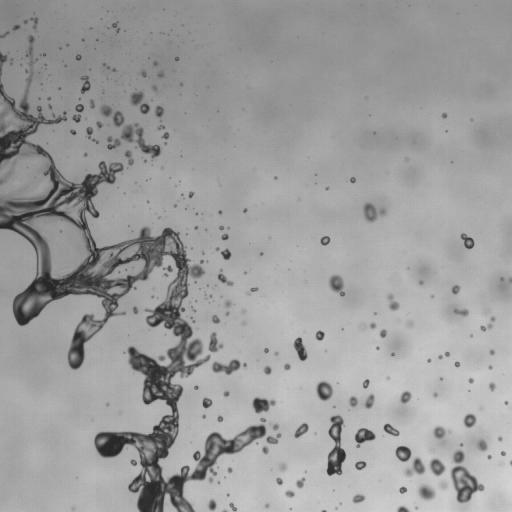droplet: (130, 88, 150, 114), (363, 202, 386, 223), (251, 396, 277, 413), (354, 428, 375, 447), (315, 380, 333, 401), (328, 274, 345, 296), (416, 483, 436, 501), (208, 332, 223, 354), (432, 425, 451, 439), (460, 232, 474, 249), (387, 292, 399, 311), (294, 422, 308, 438), (214, 247, 231, 260), (462, 413, 476, 428), (383, 423, 399, 436), (265, 432, 281, 445), (362, 393, 374, 409), (154, 105, 164, 122), (399, 390, 411, 404), (476, 438, 487, 451), (437, 479, 448, 490), (21, 23, 32, 34), (146, 65, 157, 76), (146, 72, 157, 83), (79, 92, 90, 103), (136, 113, 147, 124), (75, 121, 86, 132), (111, 126, 122, 137), (143, 134, 154, 145), (119, 139, 130, 150), (126, 140, 137, 151), (131, 147, 142, 158), (113, 151, 124, 162), (103, 152, 114, 163), (72, 173, 83, 184), (96, 181, 107, 192), (0, 187, 11, 198), (149, 226, 160, 237), (162, 254, 173, 265), (150, 266, 161, 277), (204, 270, 215, 281), (155, 293, 166, 304), (90, 294, 101, 305), (451, 294, 462, 305), (93, 308, 104, 319), (178, 310, 189, 321), (169, 334, 180, 345), (62, 336, 73, 347), (147, 348, 158, 359), (210, 351, 221, 362), (263, 354, 274, 365), (271, 361, 282, 372), (134, 371, 145, 382), (170, 374, 181, 385), (356, 390, 367, 401), (210, 392, 221, 403), (154, 398, 165, 409), (336, 406, 347, 417), (249, 414, 260, 425), (110, 422, 121, 433), (372, 425, 383, 436), (222, 429, 233, 440), (340, 430, 351, 441), (487, 442, 498, 453), (122, 443, 133, 454), (218, 452, 229, 463), (443, 458, 454, 469), (187, 459, 198, 470), (160, 469, 171, 480), (440, 470, 451, 481), (413, 473, 424, 484), (182, 479, 193, 490), (407, 485, 418, 496), (397, 495, 408, 506), (348, 395, 358, 407), (202, 397, 212, 409), (207, 499, 217, 511), (352, 494, 365, 503), (295, 477, 305, 488), (354, 461, 366, 470), (315, 329, 324, 340), (284, 489, 295, 498), (320, 236, 330, 245), (451, 284, 460, 294), (224, 299, 234, 308), (262, 365, 271, 375), (269, 422, 279, 431), (278, 462, 287, 472), (482, 307, 491, 316), (211, 314, 220, 323), (398, 486, 407, 495), (154, 77, 163, 86), (66, 107, 75, 116), (43, 110, 52, 119), (66, 119, 75, 128), (216, 215, 225, 224), (219, 240, 228, 249), (185, 274, 194, 283), (197, 275, 206, 284), (321, 280, 330, 289), (209, 322, 218, 331), (200, 338, 209, 347), (136, 344, 145, 353), (200, 346, 209, 355), (486, 355, 495, 364), (220, 356, 229, 365), (202, 361, 211, 370), (356, 395, 365, 404), (162, 405, 171, 414), (143, 425, 152, 434), (264, 426, 273, 435), (257, 436, 266, 445), (326, 439, 335, 448), (491, 451, 500, 460), (105, 455, 114, 464), (421, 458, 430, 467), (133, 464, 142, 473), (423, 466, 432, 475), (433, 487, 442, 496), (471, 490, 480, 499), (151, 84, 159, 94), (379, 329, 387, 338), (488, 382, 496, 391), (96, 121, 103, 131), (163, 505, 174, 511), (138, 69, 146, 77), (406, 319, 413, 328), (362, 379, 369, 388), (262, 445, 269, 454), (157, 70, 164, 78), (161, 132, 169, 139), (204, 292, 212, 299), (276, 477, 283, 485), (89, 99, 95, 108), (188, 191, 195, 198), (221, 233, 228, 240), (31, 50, 38, 57), (38, 56, 45, 63), (1, 61, 8, 68), (32, 63, 39, 70), (153, 65, 160, 72), (31, 74, 38, 81), (30, 79, 37, 86), (76, 80, 83, 87), (3, 87, 10, 94), (127, 87, 134, 94), (124, 94, 131, 101), (104, 99, 111, 106), (82, 100, 89, 107), (94, 101, 101, 108), (13, 102, 20, 109), (110, 105, 117, 112), (148, 106, 155, 113), (54, 109, 61, 116), (65, 112, 72, 119), (106, 115, 113, 122), (123, 118, 130, 125), (70, 121, 77, 128), (37, 123, 44, 130), (90, 123, 97, 130), (25, 134, 32, 141), (159, 146, 166, 153), (144, 152, 151, 159), (120, 157, 127, 164), (54, 162, 61, 169), (93, 167, 100, 174), (90, 195, 97, 202), (177, 201, 184, 208), (373, 203, 380, 210), (357, 208, 364, 215), (83, 211, 90, 218), (375, 214, 382, 221), (371, 219, 378, 226), (2, 227, 9, 234), (133, 230, 140, 237), (186, 260, 193, 267), (200, 262, 207, 269), (171, 265, 178, 272), (331, 268, 338, 275), (24, 278, 31, 285), (133, 279, 140, 286), (332, 290, 339, 297), (65, 293, 72, 300), (116, 297, 123, 304), (181, 297, 188, 304), (218, 297, 225, 304), (383, 299, 390, 306), (149, 302, 156, 309), (137, 305, 144, 312), (125, 307, 132, 314), (392, 308, 399, 315), (38, 309, 45, 316), (217, 312, 224, 319), (369, 315, 376, 322), (9, 316, 16, 323), (29, 317, 36, 324), (102, 322, 109, 329), (373, 327, 380, 334), (67, 330, 74, 337), (215, 336, 222, 343), (288, 336, 295, 343), (301, 339, 308, 346), (82, 341, 89, 348), (145, 350, 152, 357), (291, 350, 298, 357), (123, 352, 130, 359), (195, 353, 202, 360), (430, 354, 437, 361), (81, 358, 88, 365), (124, 362, 131, 369), (258, 362, 265, 369), (192, 366, 199, 373), (218, 369, 225, 376), (231, 369, 238, 376), (316, 375, 323, 382), (322, 375, 329, 382), (327, 378, 334, 385), (311, 391, 318, 398), (394, 391, 401, 398), (257, 392, 264, 399), (325, 397, 332, 404), (407, 397, 414, 404), (246, 399, 253, 406), (175, 400, 182, 407), (343, 400, 350, 407), (371, 400, 378, 407), (247, 404, 254, 411), (199, 406, 206, 413), (258, 410, 265, 417), (177, 417, 184, 424), (253, 419, 260, 426), (441, 422, 448, 429), (240, 423, 247, 430), (203, 429, 210, 436), (427, 430, 434, 437), (442, 433, 449, 440), (362, 439, 369, 446), (266, 442, 273, 449), (339, 442, 346, 449), (460, 445, 467, 452), (167, 446, 174, 453), (91, 448, 98, 455), (198, 449, 205, 456), (481, 449, 488, 456), (462, 450, 469, 457), (433, 452, 440, 459), (503, 454, 510, 461), (157, 457, 164, 464), (406, 458, 413, 465), (459, 460, 466, 467), (340, 461, 347, 468), (174, 468, 181, 475), (468, 468, 475, 475), (277, 471, 284, 478), (476, 477, 483, 484), (446, 478, 453, 485), (290, 484, 297, 491), (450, 489, 457, 496), (133, 491, 140, 498), (163, 493, 170, 500), (285, 496, 292, 503), (202, 499, 209, 506), (462, 500, 469, 507), (12, 24, 20, 30), (157, 124, 165, 130), (132, 306, 138, 314), (506, 450, 511, 459), (284, 363, 290, 370), (217, 415, 223, 422), (391, 505, 398, 511), (75, 54, 81, 60), (441, 112, 447, 118), (70, 129, 76, 135), (349, 177, 355, 183), (240, 308, 246, 314), (241, 320, 247, 326), (489, 349, 495, 355), (444, 351, 450, 357), (454, 361, 460, 367), (468, 377, 474, 383), (223, 390, 229, 396), (142, 157, 147, 164), (184, 205, 190, 210), (218, 225, 224, 230), (432, 392, 438, 397), (500, 451, 506, 456), (227, 467, 232, 473), (204, 507, 211, 511), (212, 507, 219, 511), (264, 507, 271, 511), (326, 507, 333, 511), (174, 56, 179, 61), (153, 61, 158, 66), (83, 152, 88, 157), (59, 229, 64, 234), (418, 280, 423, 285), (264, 348, 269, 353), (274, 351, 279, 356), (390, 352, 395, 357), (438, 354, 443, 359), (497, 436, 502, 441), (487, 454, 492, 459), (264, 503, 269, 508), (24, 14, 29, 19), (12, 20, 17, 25), (28, 20, 33, 25), (36, 21, 41, 26), (19, 22, 24, 27), (15, 28, 20, 33), (32, 33, 37, 38), (24, 40, 29, 45), (31, 41, 36, 46), (60, 42, 65, 47), (6, 54, 11, 59), (24, 56, 29, 61), (148, 58, 153, 63), (24, 64, 29, 69), (136, 66, 141, 71), (84, 70, 89, 75), (145, 70, 150, 75), (80, 71, 85, 76), (163, 71, 168, 76), (24, 72, 29, 77), (137, 74, 142, 79), (87, 77, 92, 82), (21, 81, 26, 86), (156, 84, 161, 89), (48, 99, 53, 104), (36, 100, 41, 105), (161, 104, 166, 109), (441, 107, 446, 112), (73, 110, 78, 115), (121, 111, 126, 116), (139, 112, 144, 117), (160, 113, 165, 118), (154, 115, 159, 120), (79, 116, 84, 121), (161, 120, 166, 125), (51, 122, 56, 127), (138, 122, 143, 127), (47, 123, 52, 128), (159, 129, 164, 134), (82, 130, 87, 135), (90, 132, 95, 137), (168, 132, 173, 137), (160, 137, 165, 142), (41, 144, 46, 149), (48, 150, 53, 155), (155, 154, 160, 159), (132, 160, 137, 165), (104, 161, 109, 166), (121, 168, 126, 173), (114, 171, 119, 176), (183, 192, 188, 197), (94, 205, 99, 210), (385, 208, 390, 213), (375, 212, 380, 217), (162, 223, 167, 228), (172, 227, 177, 232), (220, 229, 225, 234), (466, 232, 471, 237), (178, 233, 183, 238), (19, 235, 24, 240), (92, 235, 97, 240), (472, 237, 477, 242), (459, 238, 464, 243), (24, 239, 29, 244), (113, 239, 118, 244), (105, 241, 110, 246), (95, 243, 100, 248), (219, 246, 224, 251), (228, 247, 233, 252), (185, 253, 190, 258), (199, 254, 204, 259), (218, 254, 223, 259), (228, 255, 233, 260), (222, 258, 227, 263), (214, 269, 219, 274), (221, 270, 226, 275), (147, 272, 152, 277), (225, 275, 230, 280), (419, 275, 424, 280), (503, 277, 508, 282), (216, 279, 221, 284), (422, 280, 427, 285), (455, 280, 460, 285), (131, 281, 136, 286), (449, 281, 454, 286), (232, 282, 237, 287), (186, 285, 191, 290), (245, 285, 250, 290), (128, 287, 133, 292), (148, 289, 153, 294), (447, 289, 452, 294), (457, 289, 462, 294), (392, 296, 397, 301), (230, 298, 235, 303), (192, 303, 197, 308), (457, 305, 462, 310), (226, 306, 231, 311), (448, 307, 453, 312), (86, 309, 91, 314), (146, 310, 151, 315), (467, 311, 472, 316), (490, 311, 495, 316), (456, 313, 461, 318), (77, 315, 82, 320), (107, 316, 112, 321), (494, 316, 499, 321), (365, 320, 370, 325), (187, 321, 192, 326), (491, 321, 496, 326), (144, 323, 149, 328), (367, 327, 372, 332), (98, 328, 103, 333), (384, 333, 389, 338), (322, 335, 327, 340), (313, 338, 318, 343), (488, 344, 493, 349), (123, 346, 128, 351), (493, 347, 498, 352), (484, 350, 489, 355), (493, 351, 498, 356), (489, 354, 494, 359), (304, 357, 309, 362), (238, 359, 243, 364), (64, 362, 69, 367), (279, 363, 284, 368), (289, 364, 294, 369), (66, 365, 71, 370), (270, 368, 275, 373), (284, 369, 289, 374), (175, 371, 180, 376), (260, 371, 265, 376), (188, 373, 193, 378), (266, 373, 271, 378), (471, 374, 476, 379), (489, 377, 494, 382), (463, 378, 468, 383), (367, 382, 372, 387), (467, 382, 472, 387), (494, 382, 499, 387), (330, 383, 335, 388), (222, 386, 227, 391), (400, 387, 405, 392), (433, 387, 438, 392), (485, 387, 490, 392), (205, 393, 210, 398), (428, 394, 433, 399), (266, 396, 271, 401), (139, 400, 144, 405), (405, 400, 410, 405), (274, 401, 279, 406), (207, 405, 212, 410), (468, 409, 473, 414), (331, 411, 336, 416), (460, 413, 465, 418), (212, 415, 217, 420), (153, 420, 158, 425), (327, 420, 332, 425), (459, 421, 464, 426), (295, 422, 300, 427), (177, 424, 182, 429), (307, 425, 312, 430), (366, 425, 371, 430), (469, 425, 474, 430), (131, 427, 136, 432), (352, 428, 357, 433), (290, 429, 295, 434), (323, 429, 328, 434), (92, 430, 97, 435), (339, 432, 344, 437), (385, 432, 390, 437), (493, 433, 498, 438), (298, 434, 303, 439), (350, 434, 355, 439), (277, 437, 282, 442), (173, 438, 178, 443), (89, 439, 94, 444), (250, 440, 255, 445), (401, 441, 406, 446), (243, 445, 248, 450), (391, 445, 396, 450), (456, 445, 461, 450), (190, 448, 195, 453), (390, 449, 395, 454), (344, 450, 349, 455), (359, 456, 364, 461), (393, 456, 398, 461), (135, 457, 140, 462), (504, 460, 509, 465), (180, 461, 185, 466), (451, 462, 456, 467), (286, 463, 291, 468), (211, 464, 216, 469), (322, 464, 327, 469), (223, 470, 228, 475), (332, 472, 337, 477), (303, 473, 308, 478), (212, 475, 217, 480), (280, 475, 285, 480), (296, 475, 301, 480), (272, 480, 277, 485), (302, 480, 307, 485), (358, 490, 363, 495), (350, 491, 355, 496), (348, 494, 353, 499), (227, 497, 232, 502), (260, 500, 265, 505), (358, 500, 363, 505), (403, 503, 408, 508), (191, 504, 196, 509), (337, 505, 342, 510), (488, 364, 492, 370), (498, 461, 504, 465), (0, 27, 3, 34), (0, 130, 3, 137), (48, 104, 52, 109), (404, 157, 409, 161), (243, 208, 247, 213), (218, 210, 222, 215), (500, 276, 504, 281), (225, 311, 229, 316), (504, 400, 508, 405), (478, 406, 483, 410), (508, 277, 511, 283), (179, 82, 183, 86), (47, 96, 51, 100), (325, 186, 329, 190), (157, 215, 161, 219), (194, 225, 198, 229), (430, 294, 434, 298), (469, 333, 473, 337), (375, 346, 379, 350), (427, 358, 431, 362), (386, 376, 390, 380), (439, 377, 443, 381), (194, 385, 198, 389), (105, 402, 109, 406), (202, 414, 206, 418), (201, 250, 204, 255), (508, 282, 511, 287), (508, 400, 511, 405), (227, 508, 232, 511), (58, 86, 61, 90), (163, 142, 167, 145), (160, 166, 164, 169), (273, 176, 277, 179), (173, 204, 177, 207), (185, 231, 188, 235), (259, 252, 263, 255), (243, 271, 247, 274), (151, 287, 155, 290), (373, 312, 377, 315), (217, 480, 220, 484), (226, 493, 229, 497), (334, 506, 337, 510), (414, 506, 418, 509), (0, 37, 2, 42), (107, 26, 110, 29), (81, 38, 84, 41), (96, 38, 99, 41), (66, 43, 69, 46), (44, 63, 47, 66), (64, 64, 67, 67), (38, 97, 41, 100), (78, 97, 81, 100), (470, 118, 473, 121), (134, 181, 137, 184), (174, 184, 177, 187), (146, 200, 149, 203), (195, 212, 198, 215), (201, 212, 204, 215), (227, 226, 230, 229), (204, 228, 207, 231), (206, 284, 209, 287), (164, 332, 167, 335), (332, 405, 335, 408), (304, 470, 307, 473), (339, 502, 342, 505), (289, 507, 292, 510), (32, 14, 35, 17), (37, 19, 40, 22), (112, 19, 115, 22), (108, 23, 111, 26), (10, 24, 13, 27), (103, 26, 106, 29), (118, 29, 121, 32), (5, 34, 8, 37), (95, 35, 98, 38), (83, 36, 86, 39), (98, 37, 101, 40), (92, 38, 95, 41), (80, 40, 83, 43), (67, 45, 70, 48), (40, 50, 43, 53), (23, 51, 26, 54), (77, 51, 80, 54), (45, 52, 48, 55), (174, 53, 177, 56), (40, 55, 43, 58), (72, 55, 75, 58), (178, 56, 181, 59), (171, 57, 174, 60), (79, 58, 82, 61), (75, 59, 78, 62), (102, 59, 105, 62), (11, 60, 14, 63), (175, 60, 178, 63), (62, 61, 65, 64), (105, 62, 108, 65), (99, 63, 102, 66), (46, 64, 49, 67), (42, 65, 45, 68), (109, 66, 112, 69), (115, 66, 118, 69), (21, 69, 24, 72), (112, 71, 115, 74), (0, 74, 3, 77), (144, 76, 147, 79), (160, 76, 163, 79), (81, 79, 84, 82), (176, 81, 179, 84), (182, 81, 185, 84), (56, 84, 59, 87), (89, 86, 92, 89), (28, 87, 31, 90), (60, 87, 63, 90), (57, 89, 60, 92), (84, 90, 87, 93), (45, 94, 48, 97), (50, 96, 53, 99), (77, 100, 80, 103), (158, 103, 161, 106), (51, 105, 54, 108), (82, 108, 85, 111), (438, 112, 441, 115), (446, 114, 449, 117), (439, 116, 442, 119), (443, 117, 446, 120), (60, 119, 63, 122), (71, 119, 74, 122), (100, 126, 103, 129), (444, 126, 447, 129), (441, 129, 444, 132), (447, 129, 450, 132), (375, 131, 378, 134), (68, 132, 71, 135), (74, 133, 77, 136), (94, 137, 97, 140), (88, 138, 91, 141), (92, 141, 95, 144), (105, 141, 108, 144), (95, 143, 98, 146), (85, 149, 88, 152), (81, 150, 84, 153), (179, 151, 182, 154), (86, 154, 89, 157), (96, 160, 99, 163), (127, 164, 130, 167), (273, 172, 276, 175), (350, 173, 353, 176), (276, 174, 279, 177), (270, 175, 273, 178), (314, 175, 317, 178), (146, 176, 149, 179), (347, 176, 350, 179), (142, 177, 145, 180), (275, 178, 278, 181), (147, 179, 150, 182), (347, 180, 350, 183), (175, 181, 178, 184), (350, 182, 353, 185), (135, 183, 138, 186), (324, 183, 327, 186), (191, 188, 194, 191), (327, 188, 330, 191), (177, 192, 180, 195), (191, 195, 194, 198), (147, 197, 150, 200), (143, 199, 146, 202), (175, 201, 178, 204), (147, 202, 150, 205), (183, 204, 186, 207), (175, 205, 178, 208), (181, 207, 184, 210), (186, 207, 189, 210), (240, 207, 243, 210), (215, 208, 218, 211), (193, 209, 196, 212), (221, 210, 224, 213), (245, 210, 248, 213), (197, 211, 200, 214), (98, 212, 101, 215), (216, 212, 219, 215), (156, 213, 159, 216), (160, 214, 163, 217), (219, 222, 222, 225), (124, 224, 127, 227), (191, 225, 194, 228), (195, 228, 198, 231), (321, 233, 324, 236), (227, 234, 230, 237), (328, 234, 331, 237), (457, 234, 460, 237), (218, 236, 221, 239), (223, 239, 226, 242), (317, 239, 320, 242), (318, 242, 321, 245), (327, 242, 330, 245), (473, 242, 476, 245), (213, 244, 216, 247), (321, 244, 324, 247), (464, 247, 467, 250), (469, 247, 472, 250), (203, 249, 206, 252), (261, 249, 264, 252), (256, 251, 259, 254), (261, 254, 264, 257), (33, 255, 36, 258), (33, 258, 36, 261), (245, 268, 248, 271), (240, 270, 243, 273), (246, 271, 249, 274), (162, 275, 165, 278), (496, 277, 499, 280), (415, 280, 418, 283), (416, 283, 419, 286), (208, 284, 211, 287), (251, 284, 254, 287), (200, 288, 203, 291), (250, 291, 253, 294), (206, 292, 209, 295), (211, 294, 214, 297), (341, 295, 344, 298), (433, 295, 436, 298), (208, 297, 211, 300), (373, 308, 376, 311), (212, 311, 215, 314), (228, 312, 231, 315), (370, 312, 373, 315), (133, 313, 136, 316), (192, 316, 195, 319), (477, 326, 480, 329), (337, 327, 340, 330), (343, 327, 346, 330), (315, 328, 318, 331), (320, 328, 323, 331), (479, 329, 482, 332), (468, 336, 471, 339), (318, 339, 321, 342), (373, 344, 376, 347), (222, 345, 225, 348), (378, 345, 381, 348), (261, 347, 264, 350), (276, 348, 279, 351), (446, 348, 449, 351), (375, 349, 378, 352), (390, 349, 393, 352), (267, 350, 270, 353), (394, 352, 397, 355), (277, 353, 280, 356), (442, 354, 445, 357), (274, 355, 277, 358), (390, 355, 393, 358), (425, 356, 428, 359), (456, 358, 459, 361), (451, 361, 454, 364), (246, 362, 249, 365), (427, 362, 430, 365), (459, 362, 462, 365), (490, 362, 493, 365), (485, 365, 488, 368), (491, 367, 494, 370), (440, 374, 443, 377), (436, 376, 439, 379), (362, 377, 365, 380), (442, 378, 445, 381), (438, 379, 441, 382), (368, 380, 371, 383), (472, 380, 475, 383), (193, 382, 196, 385), (359, 383, 362, 386), (197, 386, 200, 389), (493, 388, 496, 391), (194, 389, 197, 392), (467, 391, 470, 394), (220, 392, 223, 395), (228, 392, 231, 395), (225, 395, 228, 398), (435, 396, 438, 399), (504, 397, 507, 400), (211, 399, 214, 402), (501, 401, 504, 404), (199, 402, 202, 405), (199, 413, 202, 416), (220, 413, 223, 416), (199, 416, 202, 419), (222, 417, 225, 420), (380, 425, 383, 428), (398, 432, 401, 435), (280, 434, 283, 437), (500, 434, 503, 437), (501, 438, 504, 441), (457, 440, 460, 443), (497, 440, 500, 443), (354, 441, 357, 444), (462, 442, 465, 445), (502, 448, 505, 451), (497, 450, 500, 453), (490, 453, 493, 456), (499, 454, 502, 457), (484, 456, 487, 459), (490, 456, 493, 459), (356, 458, 359, 461), (128, 462, 131, 465), (365, 462, 368, 465), (228, 464, 231, 467), (224, 467, 227, 470), (231, 467, 234, 470), (353, 467, 356, 470), (306, 468, 309, 471), (230, 471, 233, 474), (219, 480, 222, 483), (398, 484, 401, 487), (403, 484, 406, 487), (406, 487, 409, 490), (397, 491, 400, 494), (403, 491, 406, 494), (223, 493, 226, 496), (338, 498, 341, 501), (336, 503, 339, 506), (322, 506, 325, 509), (72, 507, 74, 511), (89, 27, 92, 29), (58, 47, 61, 49), (373, 131, 375, 134), (450, 161, 453, 163), (177, 199, 179, 202), (190, 247, 193, 249), (195, 299, 197, 302), (341, 327, 343, 330), (314, 432, 316, 435), (217, 466, 219, 469), (73, 509, 76, 511), (287, 509, 290, 511), (333, 509, 336, 511), (414, 509, 417, 511), (181, 24, 183, 26), (89, 68, 91, 70), (48, 74, 50, 76), (40, 83, 42, 85), (368, 114, 370, 116), (445, 130, 447, 132), (180, 155, 182, 157), (149, 177, 151, 179), (123, 192, 125, 194), (407, 267, 409, 269), (199, 288, 201, 290), (220, 295, 222, 297), (336, 382, 338, 384), (382, 435, 384, 437), (332, 489, 334, 491), (146, 179, 147, 181), (179, 180, 180, 182), (132, 230, 133, 232), (468, 390, 470, 391), (224, 476, 225, 478), (100, 18, 101, 19), (128, 225, 129, 226)
ligament: (99, 103, 161, 161), (450, 442, 484, 503), (395, 446, 446, 478), (323, 414, 346, 476), (211, 358, 247, 375), (293, 336, 307, 361), (216, 268, 233, 286), (85, 126, 99, 143), (71, 104, 84, 122), (480, 316, 495, 331), (124, 149, 133, 170), (80, 75, 90, 93), (357, 322, 376, 331), (453, 308, 469, 316), (102, 63, 117, 71), (187, 300, 196, 312), (245, 287, 258, 295), (396, 505, 410, 511), (185, 315, 195, 323), (229, 502, 237, 511), (0, 31, 9, 38), (150, 293, 159, 299), (180, 193, 184, 199), (212, 284, 217, 288), (39, 53, 45, 56), (509, 459, 511, 466), (221, 509, 228, 511), (106, 77, 108, 80), (321, 510, 327, 511)
